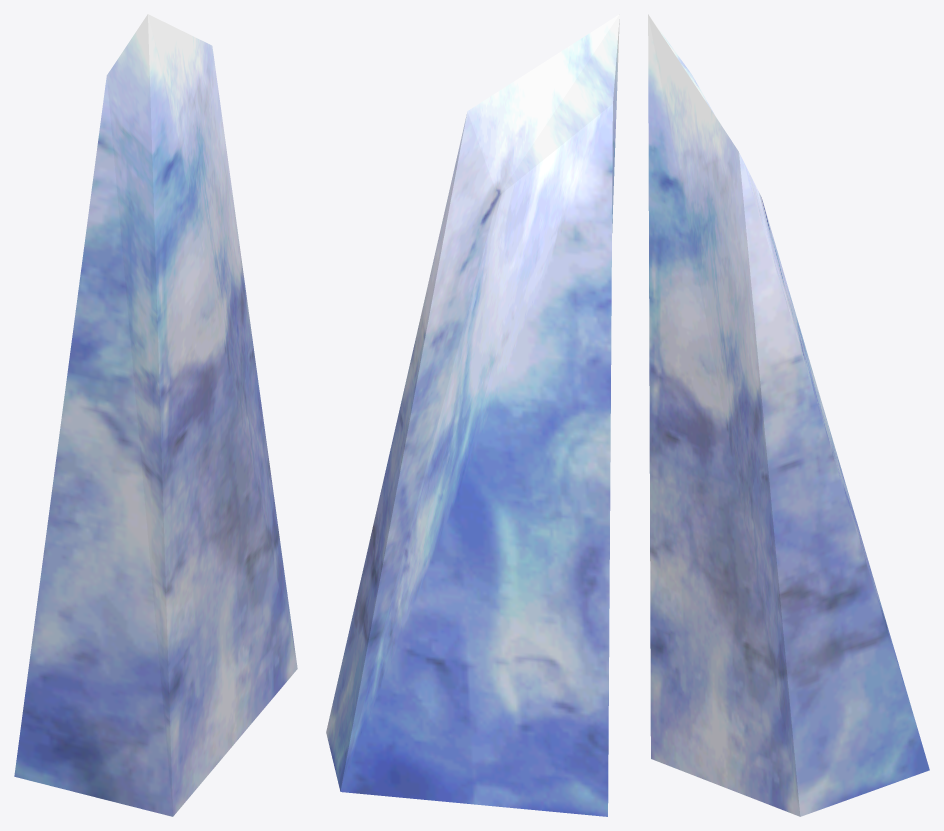
File: icestalagmite01.glb
The picture shows the model from 3 angles, left to right: view 1: azimuth 30°, elevation 25°; view 2: azimuth 150°, elevation 25°; view 3: azimuth 270°, elevation 25°; orthographic projection. The views are drawn at different scales.
Visible parts, largest first — view 1: icestalagmite01; view 2: icestalagmite01; view 3: icestalagmite01.
Boxes of the visible parts, left/top/right/bottom form: icestalagmite01: left=14, top=14, right=297, bottom=816; icestalagmite01: left=326, top=14, right=619, bottom=816; icestalagmite01: left=648, top=14, right=929, bottom=816.
Size of the model in its own units: 1114 by 2930 by 1021.
1 material, 1 textured.
